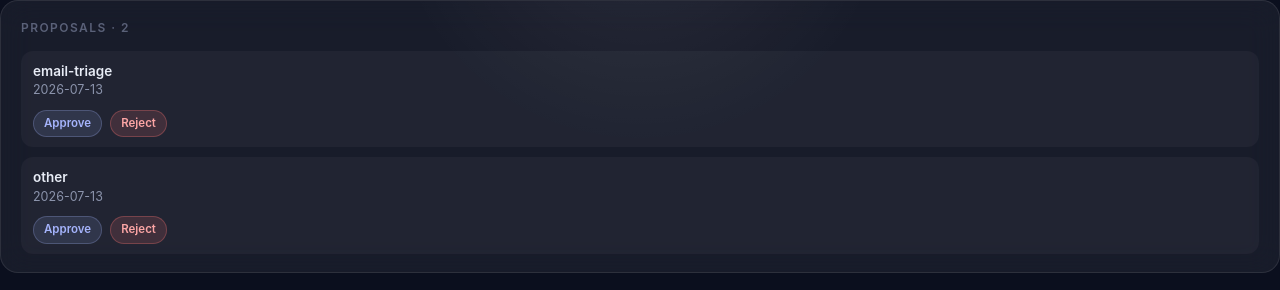
Test: ProposalList — DoD #2/#3: two-step approve, timeout reset, write payload › a tap on a DIFFERENT proposal does not commit the first one's arm
Click the button with test id "proposal-approve": (68, 124) [33,110,102,137]
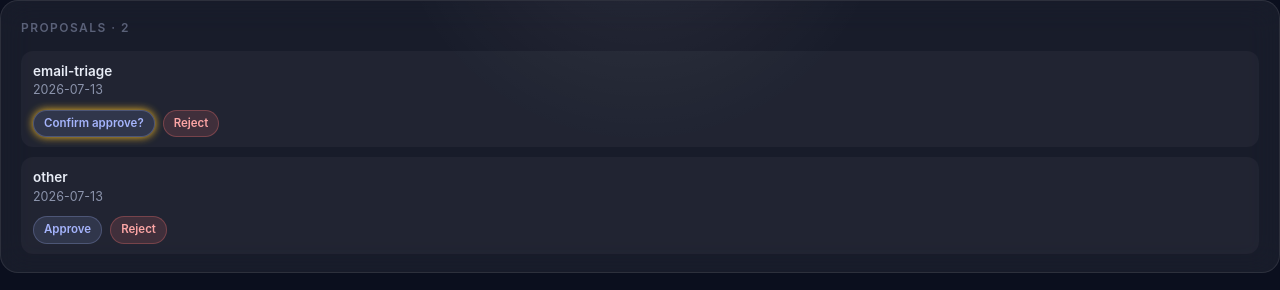
Click the button with test id "proposal-approve": (68, 230) [33,216,102,244]
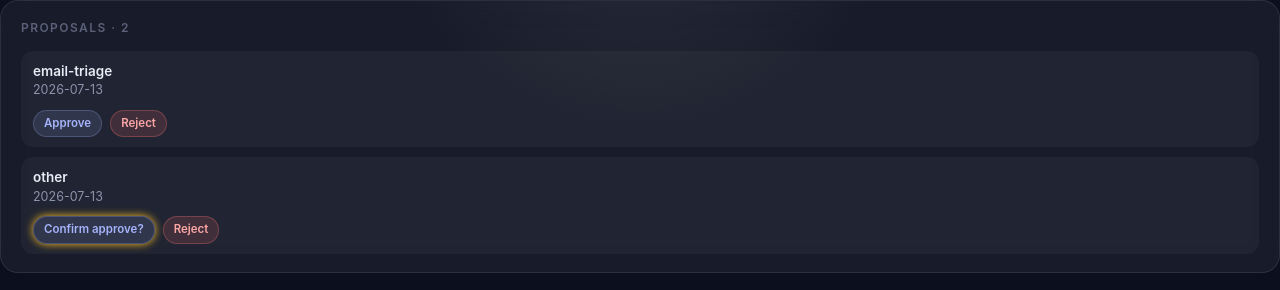
Now the button with test id "proposal-approve" reads "Confirm approve?", box [33,216,155,244]
